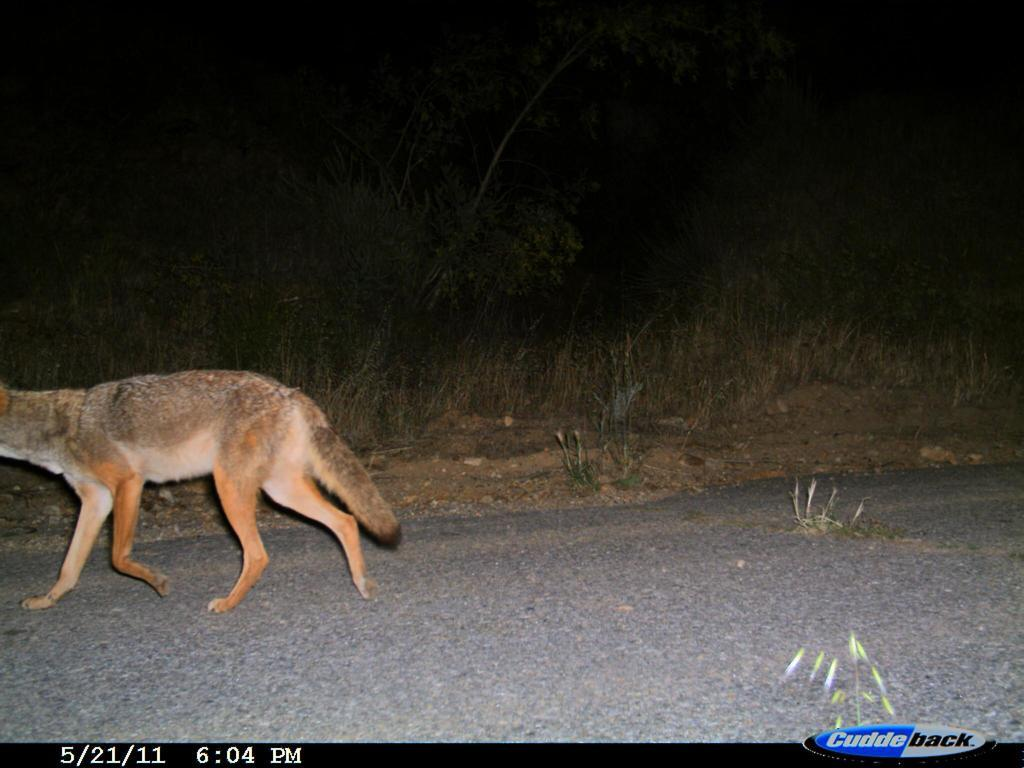coyote: (2, 363, 408, 624)
